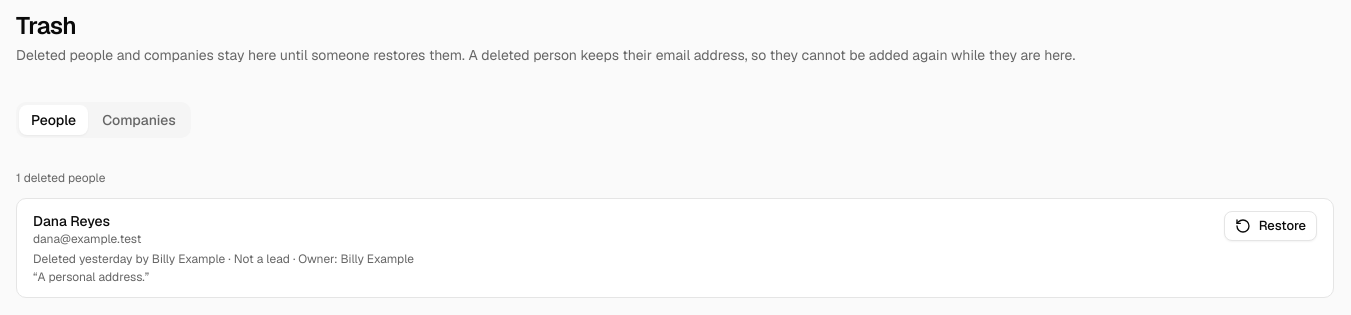
the trash: deleted records, who deleted them and why, and Restore › lists deleted people with who, why and the note, and puts one back
Later steps or results of the test are not shown.
Expected: the text "Dana Reyes" is shown, [33, 212, 110, 230]
Expected: the text "dana@example.test" is shown, [33, 231, 142, 247]
Step 1. Click the button with aria-label "Restore Dana Reyes" → x=1270, y=226, box [1224, 211, 1317, 241]
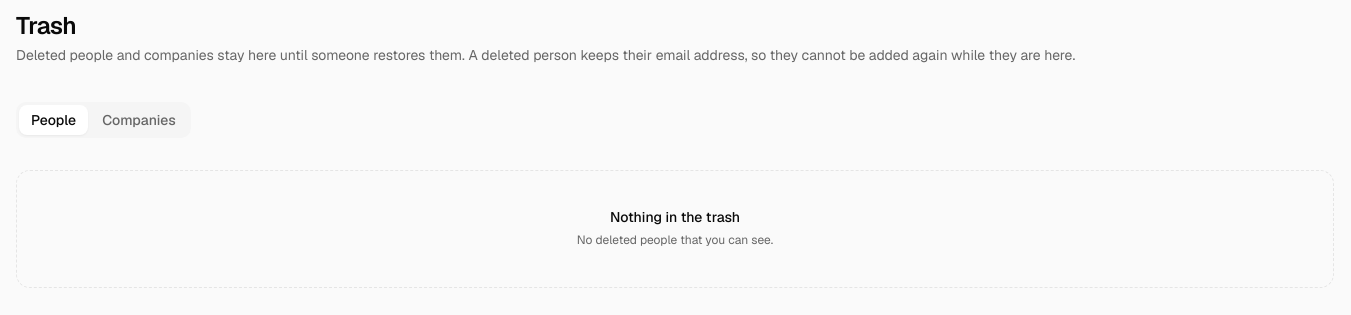
Expected: the text "Nothing in the trash" is shown, [610, 207, 740, 227]
